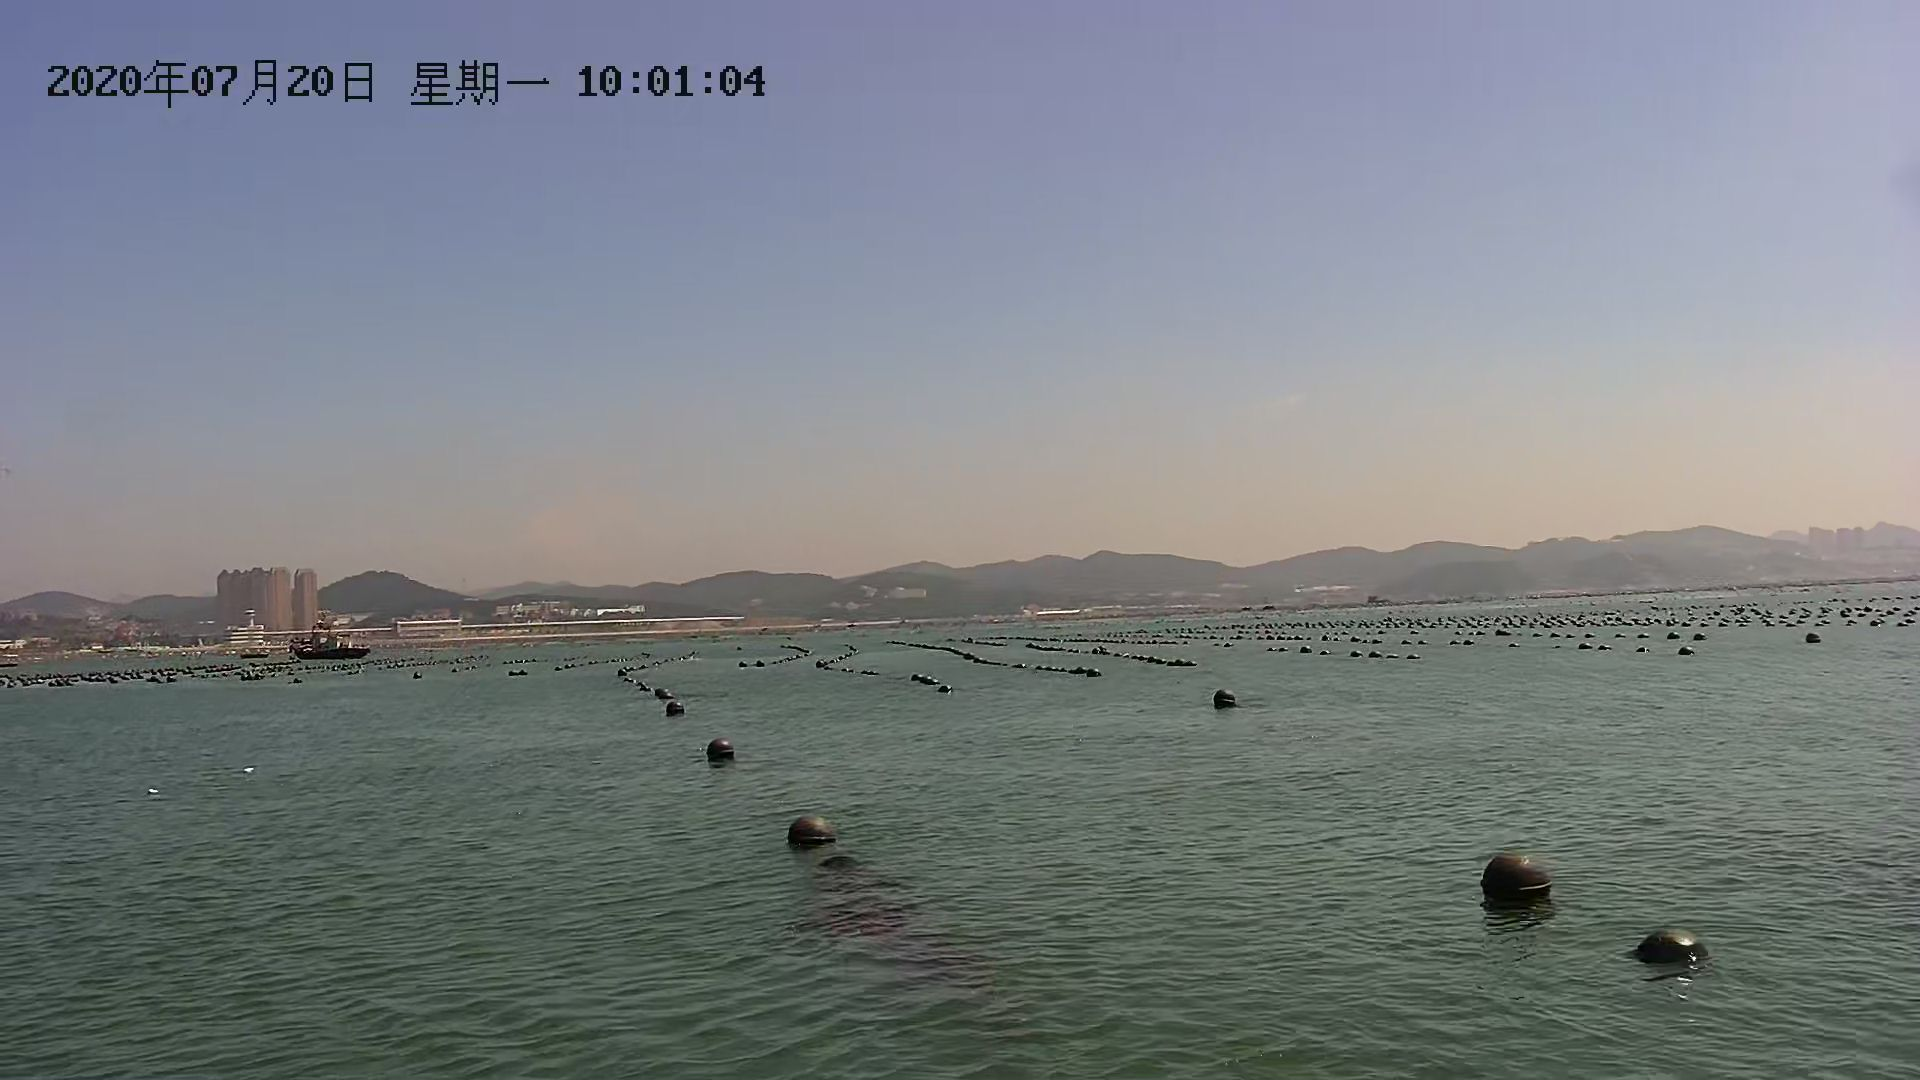ball: (1474, 847, 1557, 899), (1630, 922, 1718, 960), (783, 811, 839, 853), (698, 727, 742, 764), (1207, 688, 1244, 715), (662, 694, 687, 723), (1673, 645, 1704, 659), (1797, 636, 1830, 642)
ship: (293, 622, 371, 665)
